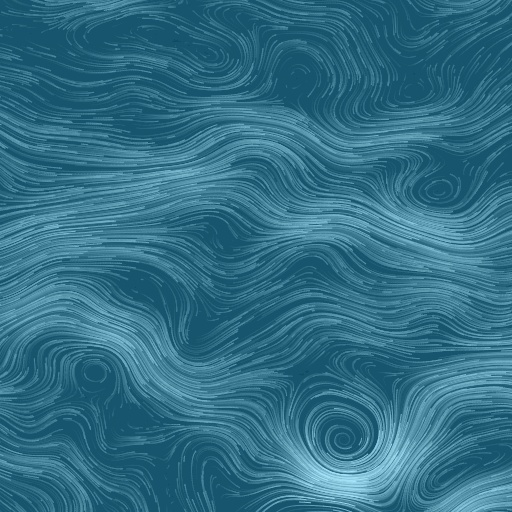eddy: (292, 390, 399, 480), (121, 12, 251, 73), (416, 172, 465, 209), (76, 353, 116, 390)
